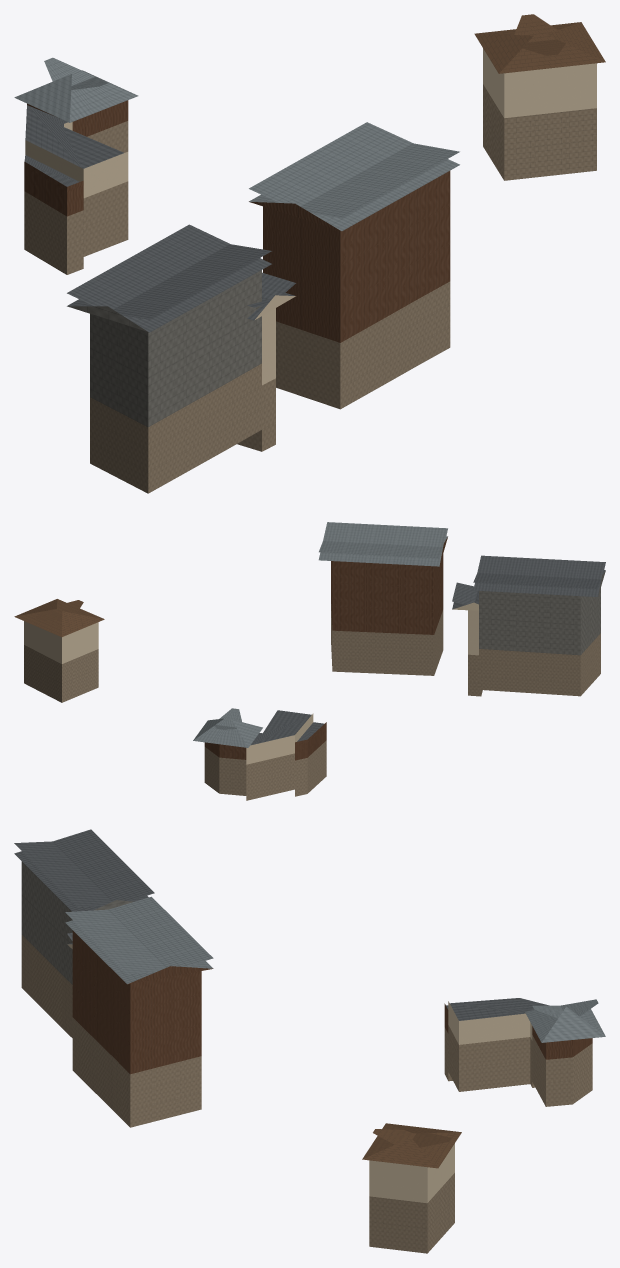
The model's file is bld_c22_45_386.gltf.
The picture shows the model from 3 angles, top to bottom: view 1: azimuth 30°, elevation 25°; view 2: azimuth 150°, elevation 25°; view 3: azimuth 270°, elevation 25°; orthographic projection. The views are drawn at different scales.
Parts seen in each view (by area): view 1: bld_c22_45_386; view 2: bld_c22_45_386; view 3: bld_c22_45_386.
Part boxes in pixels (x1,y1,x2,y2): bld_c22_45_386: (14, 14, 605, 493); bld_c22_45_386: (14, 522, 605, 800); bld_c22_45_386: (14, 829, 605, 1253).
Bounding box in the file's own units: 58.76 × 17.2 × 51.25.
Materials: 10 (10 with a texture image).
